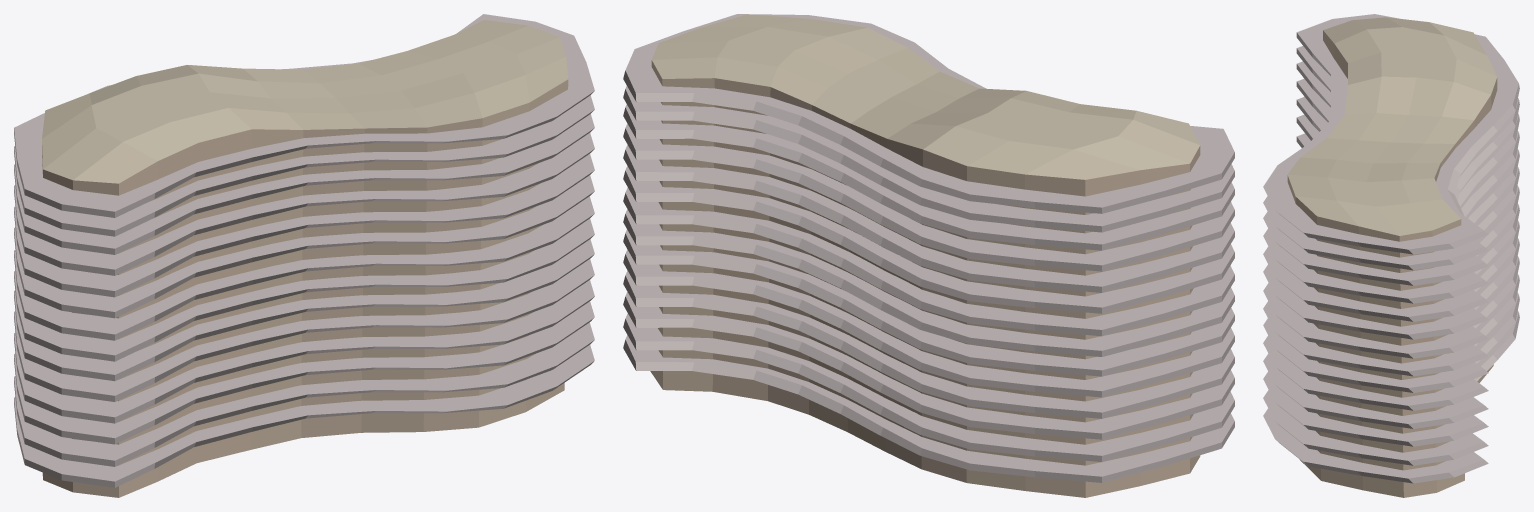
The model's file is AntonioCenarioFase1.fbx_PredioNiemeyer.fbx.
3 views of the same model, side by side, from view 1: azimuth 30°, elevation 25°; view 2: azimuth 150°, elevation 25°; view 3: azimuth 270°, elevation 25° (orthographic). The views are drawn at different scales.
Parts seen in each view (by area): view 1: PredioNiemeyer; view 2: PredioNiemeyer; view 3: PredioNiemeyer.
Part boxes in pixels (x1,y1,x2,y2): PredioNiemeyer: [14, 14, 594, 497]; PredioNiemeyer: [623, 14, 1234, 497]; PredioNiemeyer: [1263, 14, 1519, 497].
Bounding box in the file's own units: 5123 × 2836 × 2360.
